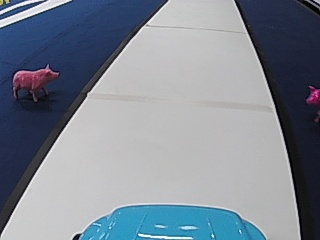pig: (9, 62, 59, 101), (304, 83, 320, 116)
